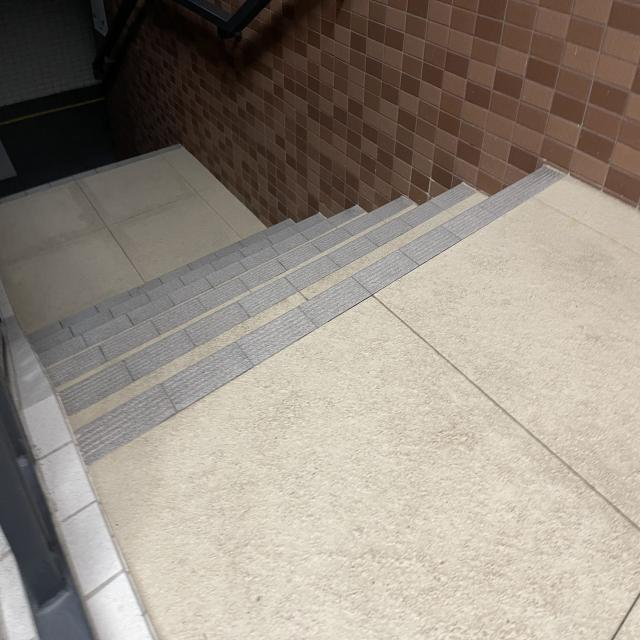Stairs: (10, 160, 614, 501)
